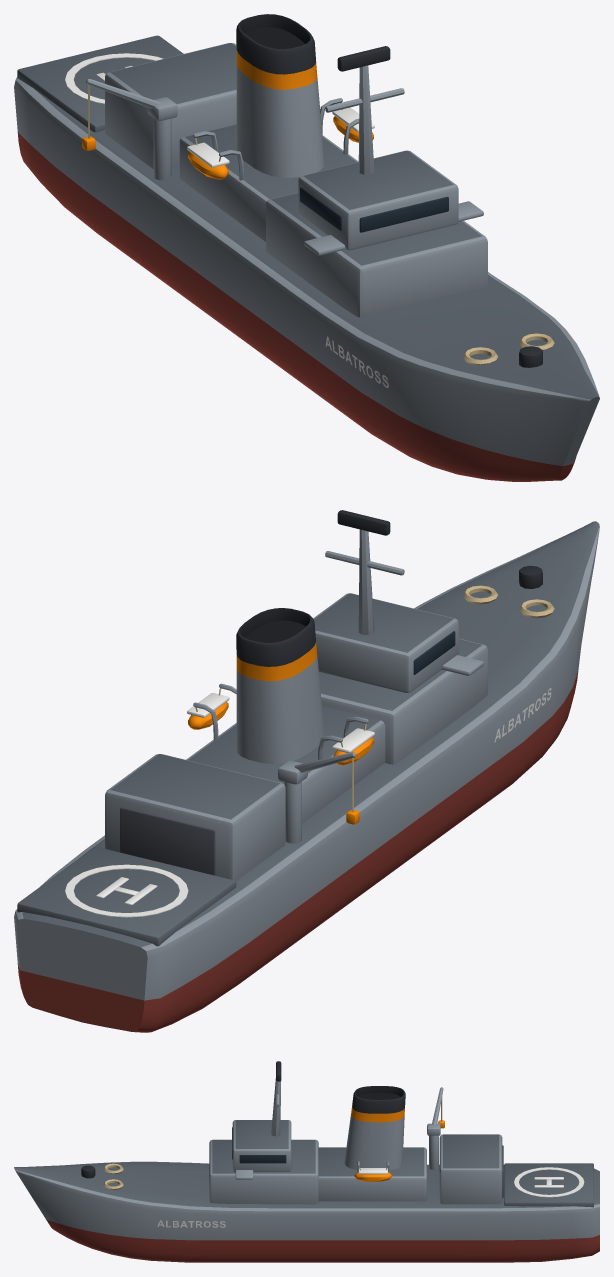
Rendered from albatross.glb.
3 renders of one model, top to bottom at view 1: azimuth 30°, elevation 25°; view 2: azimuth 150°, elevation 25°; view 3: azimuth 270°, elevation 25°, orthographic. The views are drawn at different scales.
Visible parts, largest first — view 1: Albatross_Hull, Albatross_Superstructure, Albatross_Funnel, Albatross_Helipad, Albatross_Crane, Albatross_DeckGear; view 2: Albatross_Hull, Albatross_Superstructure, Albatross_Helipad, Albatross_Funnel, Albatross_Crane, Albatross_DeckGear; view 3: Albatross_Hull, Albatross_Superstructure, Albatross_Funnel, Albatross_Helipad, Albatross_Crane, Albatross_DeckGear.
Boxes of the visible parts, <box> form: Albatross_Hull: <box>14,77,599,481</box>; Albatross_Superstructure: <box>105,43,487,317</box>; Albatross_Funnel: <box>236,14,324,177</box>; Albatross_Helipad: <box>17,35,183,132</box>; Albatross_Crane: <box>82,79,177,180</box>; Albatross_DeckGear: <box>463,333,554,367</box>; Albatross_Hull: <box>14,521,599,1032</box>; Albatross_Superstructure: <box>105,510,487,880</box>; Albatross_Helipad: <box>17,847,236,946</box>; Albatross_Funnel: <box>236,608,324,763</box>; Albatross_Crane: <box>278,752,359,843</box>; Albatross_DeckGear: <box>463,565,554,618</box>; Albatross_Hull: <box>14,1161,599,1262</box>; Albatross_Superstructure: <box>209,1061,503,1204</box>; Albatross_Funnel: <box>344,1086,405,1169</box>; Albatross_Helipad: <box>504,1163,593,1207</box>; Albatross_Crane: <box>427,1087,444,1169</box>; Albatross_DeckGear: <box>81,1163,123,1189</box>.
Bounding box in the file's own units: 7.5 × 10.08 × 30.
1 material, 1 textured.
